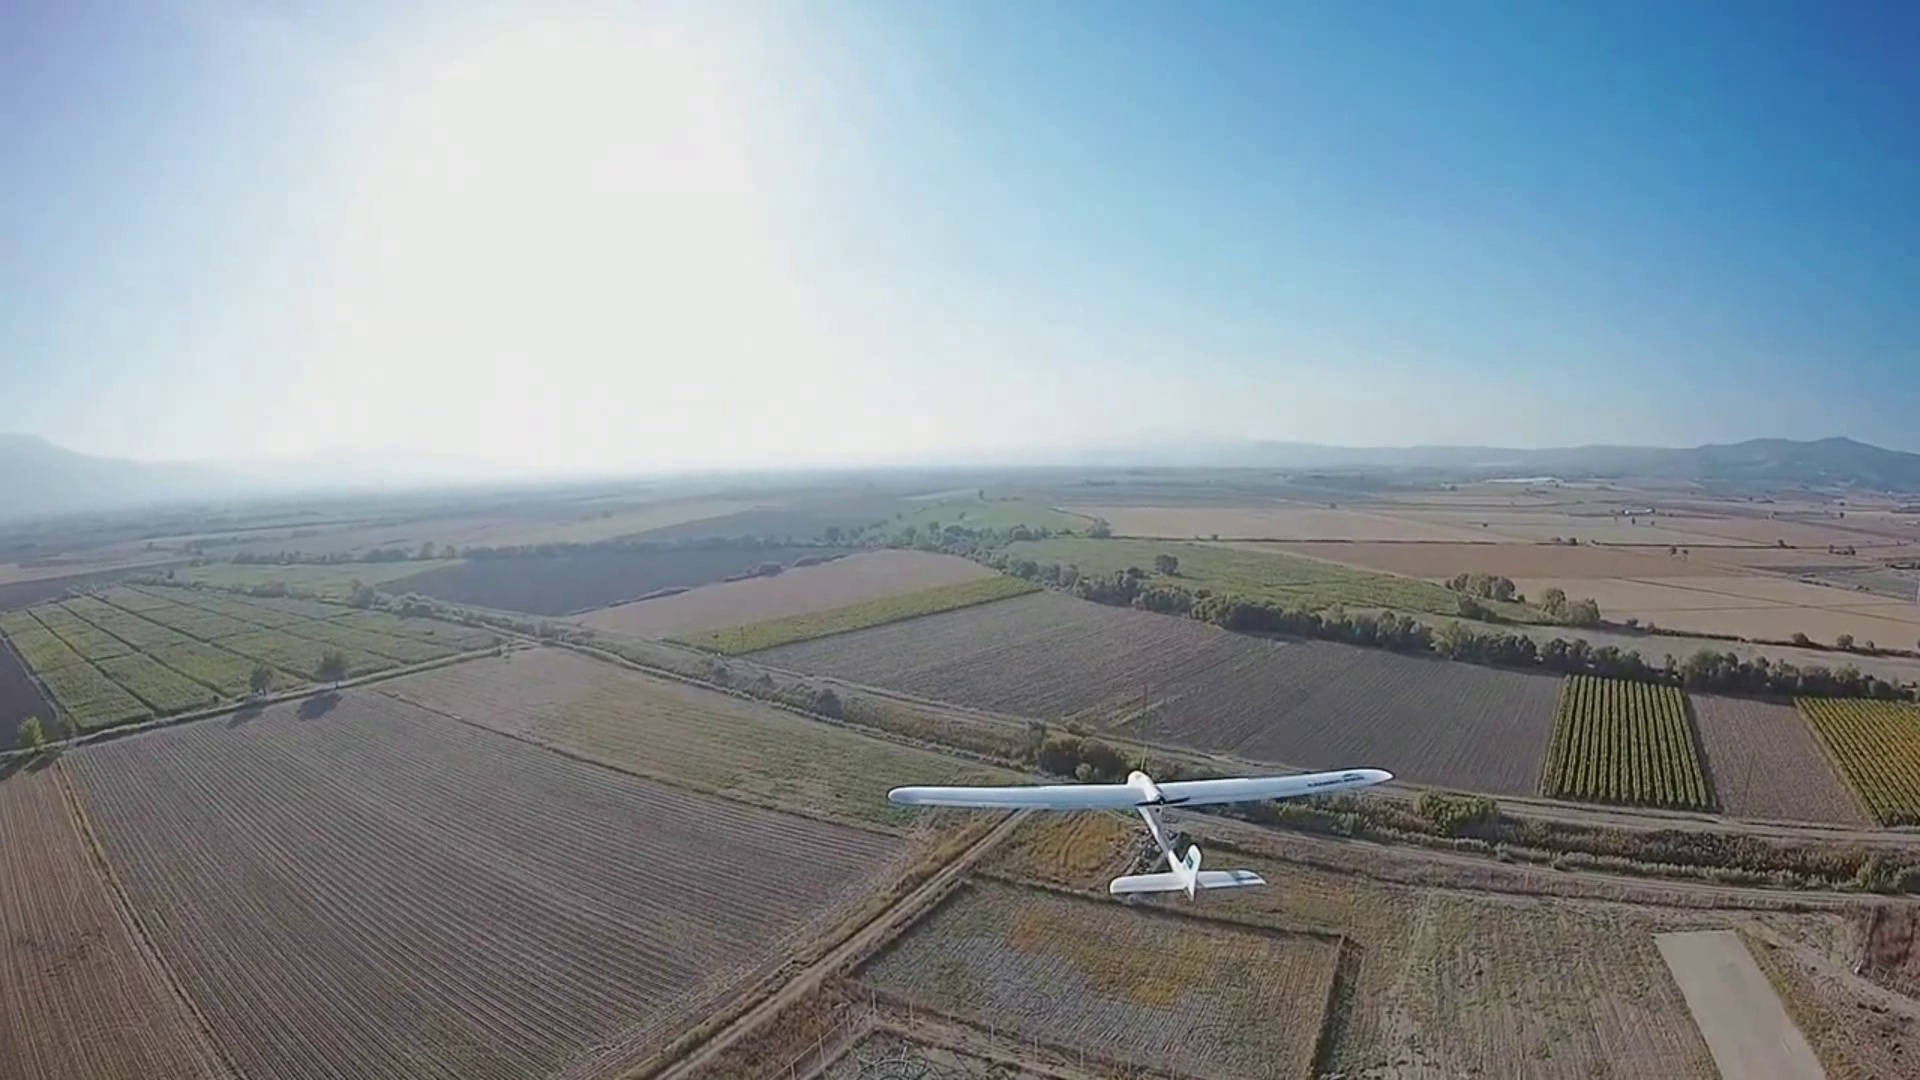airplane: (884, 758, 1394, 905)
